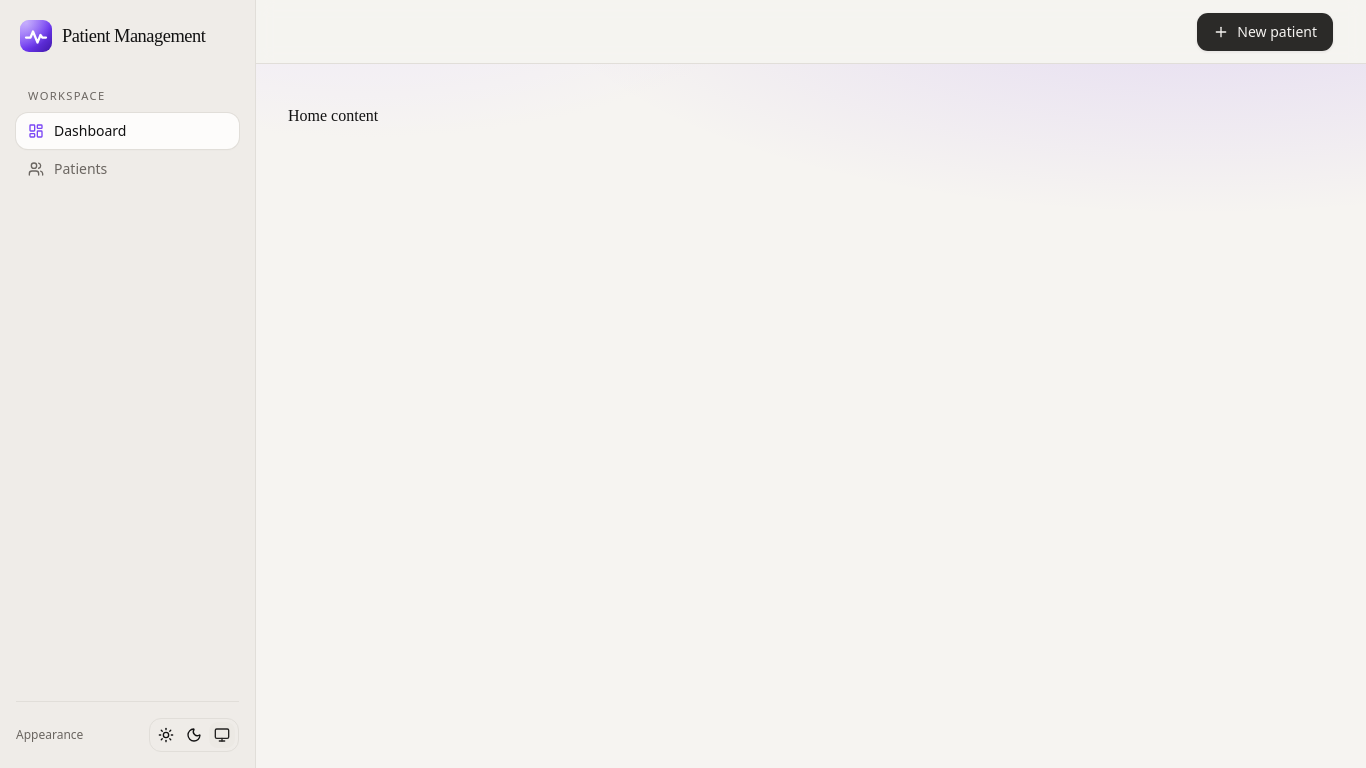
AppLayout › "New patient" header button links to the create form
This screenshot has width=1366, height=768.
// jsdom loads no CSS, so both the responsive label and its sr-only twin are in the name.
Click the link "New patient" at (1265, 32), box [1196,12,1334,52]
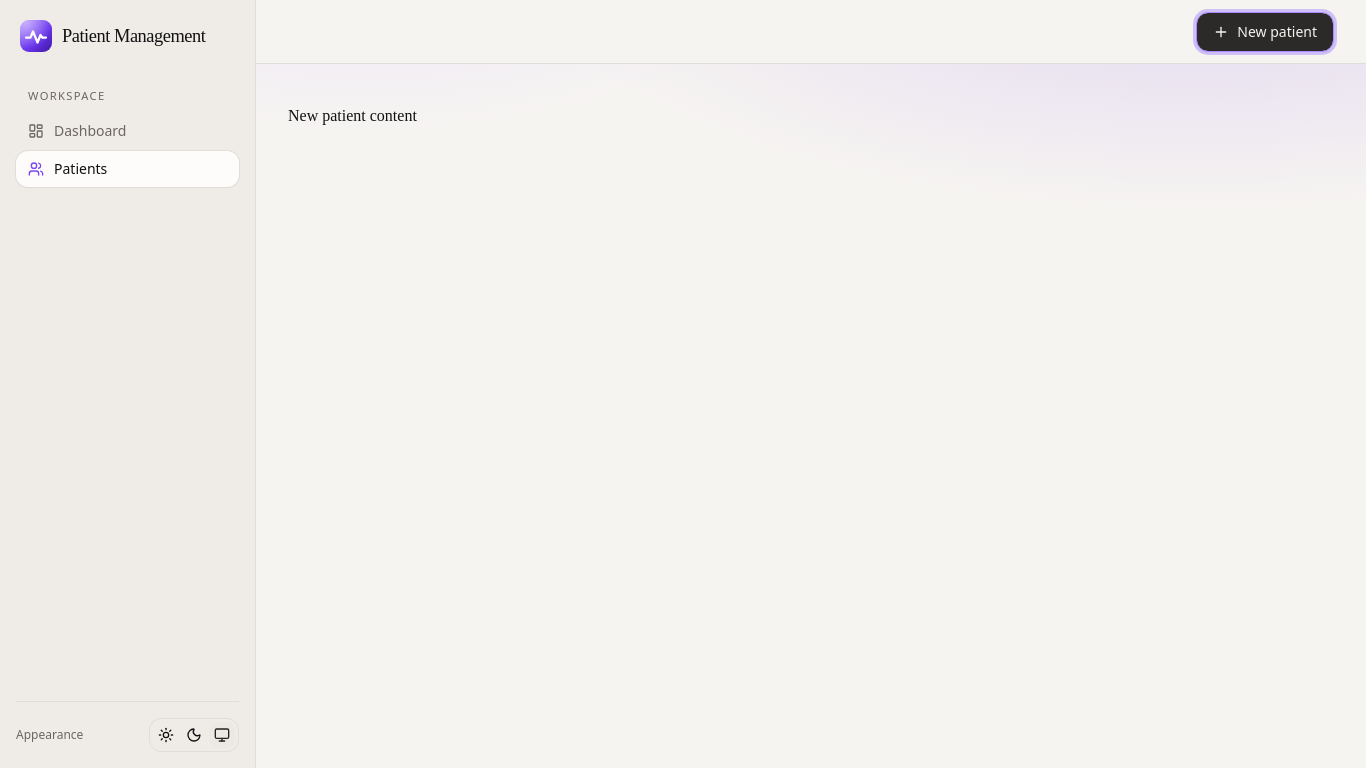
expect the heading "New patient content" is shown: met, box [288,107,417,124]
